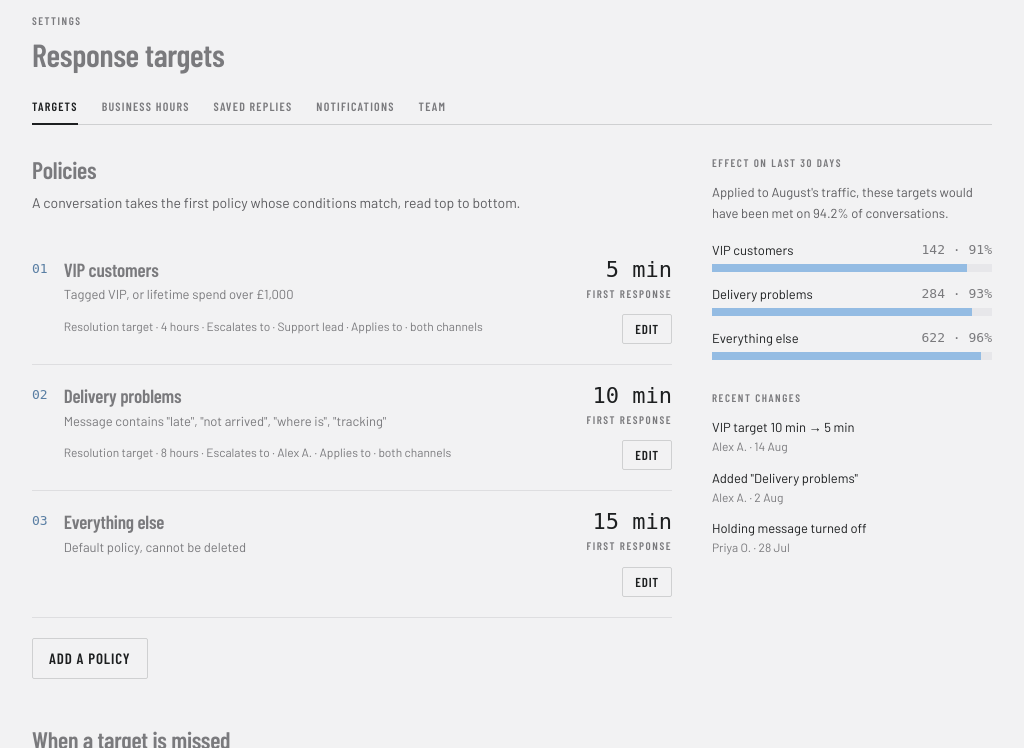
SettingsPage › marks the form dirty once a target changes, then clean after saving
Step 1. Click the button "Edit" in the row of "Support lead" → click(647, 329), box [622,314,672,344]
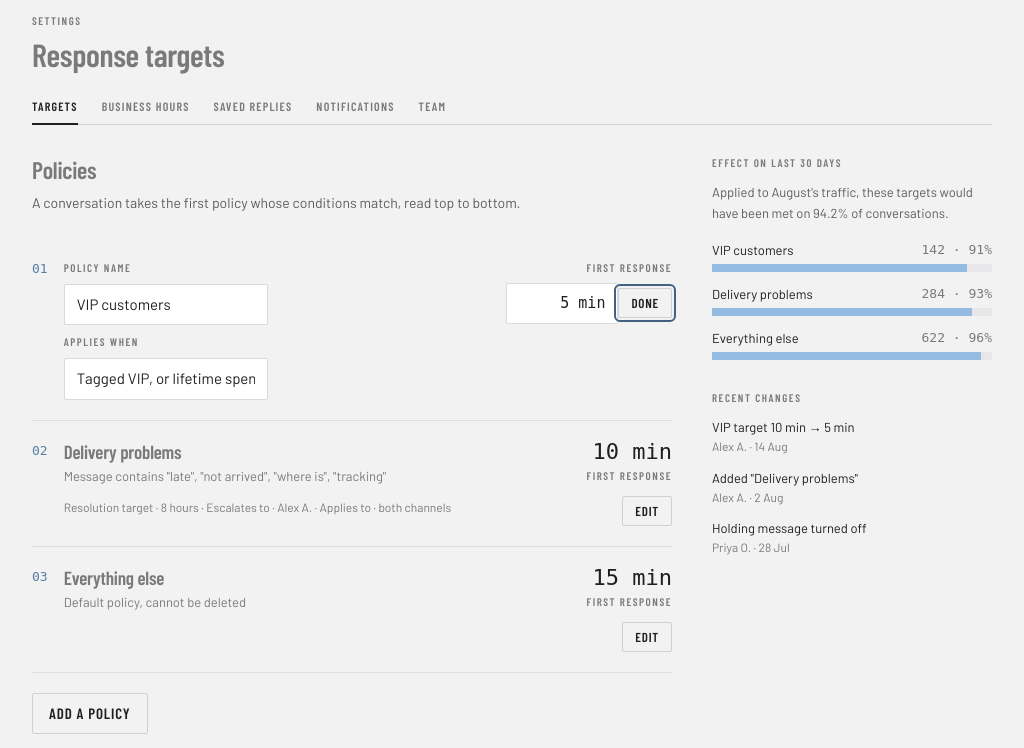
Step 2. Replace the text in the field labelled "First response" with "3 min" → (562, 304), box [506,283,618,324]
(page scrolled)
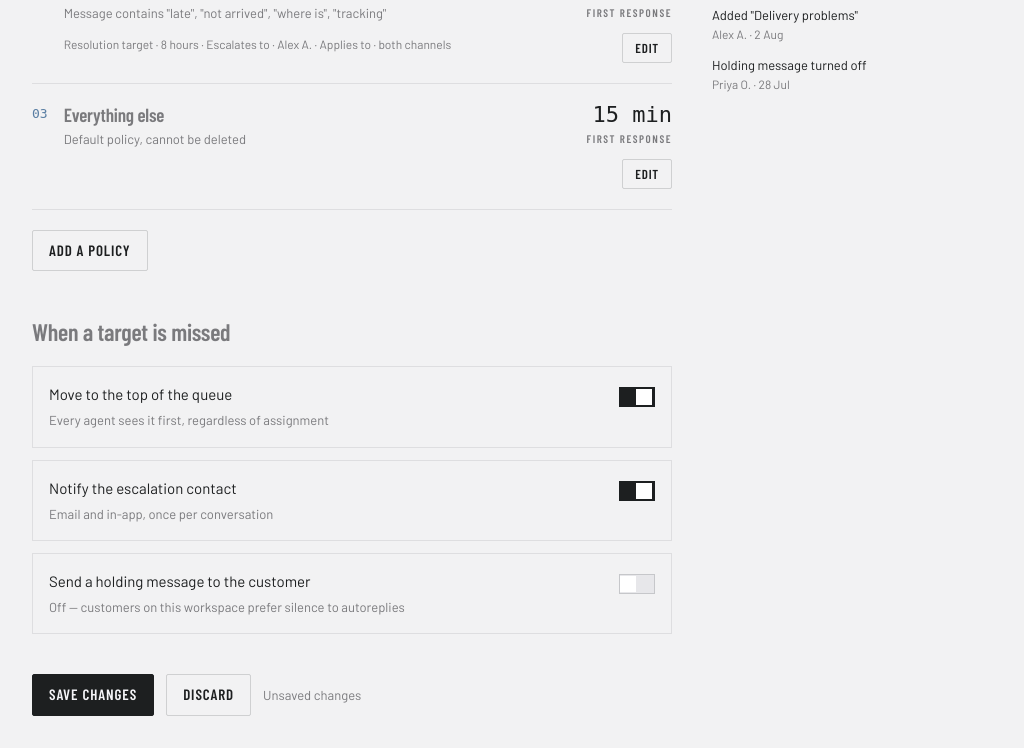
Expected: the text "Unsaved changes" is shown, [263,685,361,705]
Expected: the button "Save changes" is enabled
Step 3. Click the button "Save changes" → click(93, 695), box [32,674,154,716]
(page scrolled)
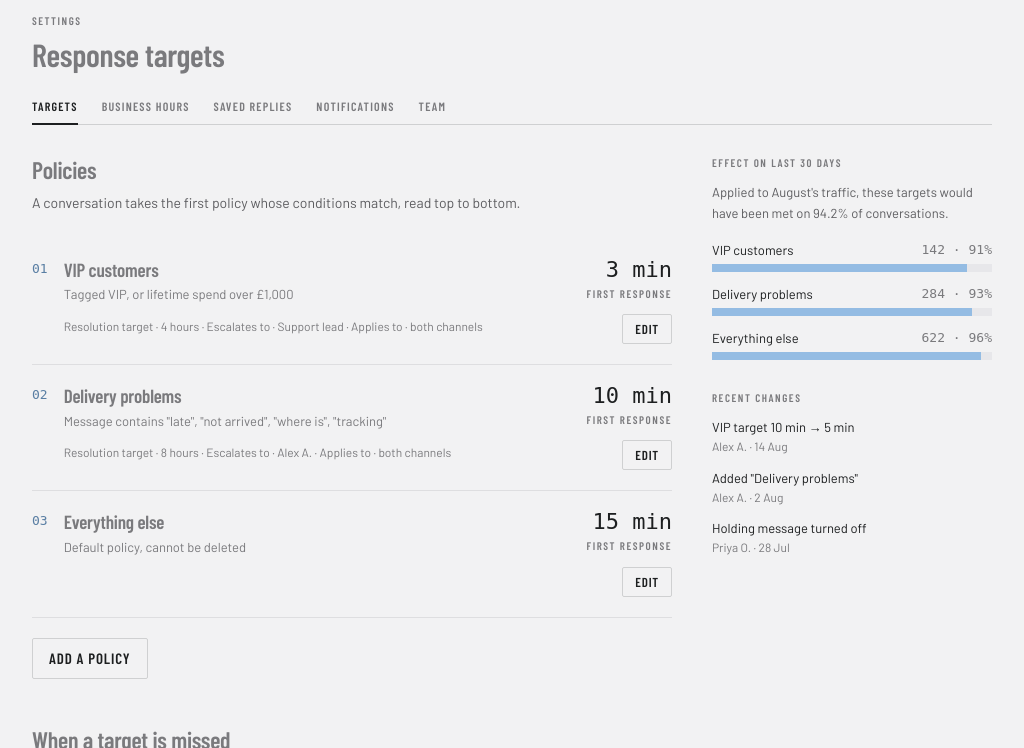
Expected: the text "Unsaved changes" is gone
Expected: the text "3 min" is shown, [606,257,672,282]
